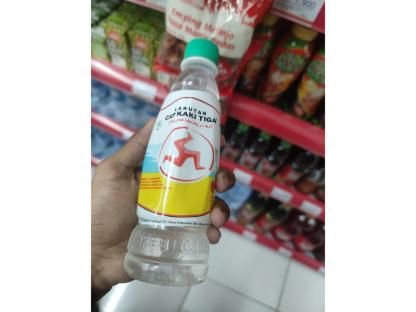Plastic Bottle: (114, 30, 246, 296)
